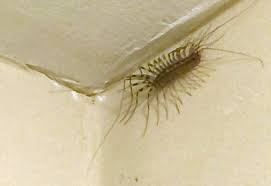centipede: (117, 31, 213, 131)
